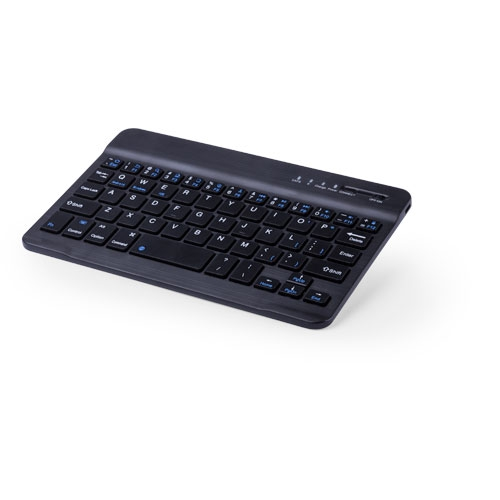Teclado: (19, 126, 414, 331)
